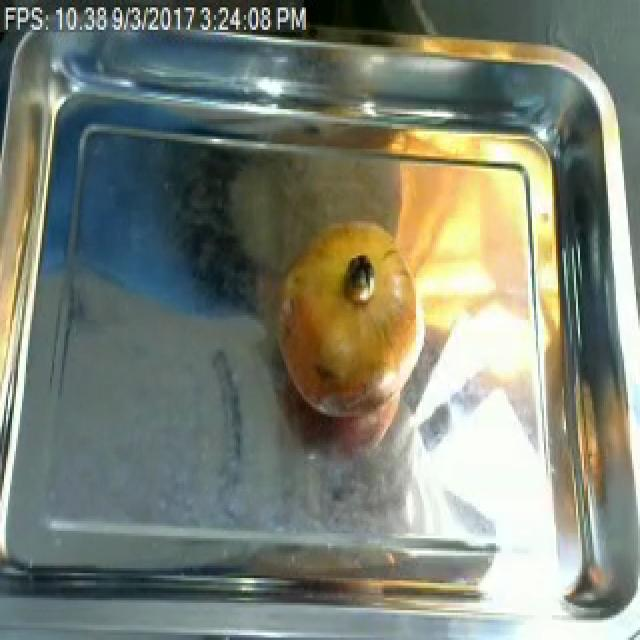fruit: (260, 208, 434, 434)
